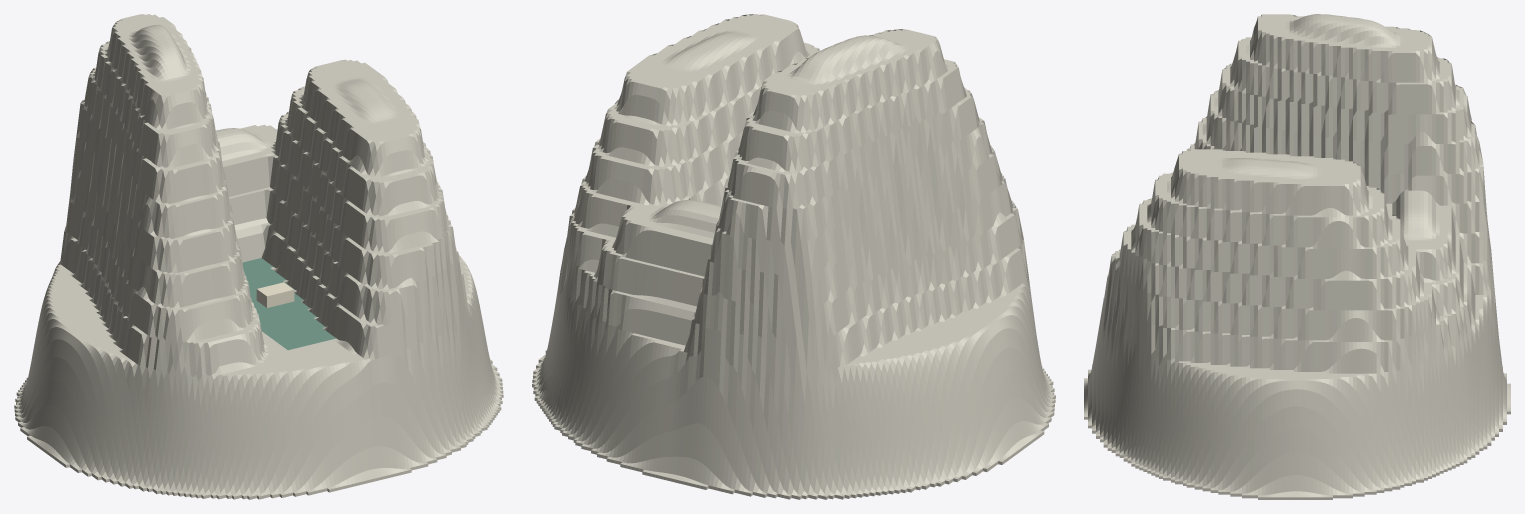
The model's file is study.glb.
3 renders of one model, left to right at view 1: azimuth 30°, elevation 25°; view 2: azimuth 150°, elevation 25°; view 3: azimuth 270°, elevation 25°, orthographic. The views are drawn at different scales.
Visible parts, largest first — view 1: N3 / one occupied climate watershed, Valley civic forum; view 2: N3 / one occupied climate watershed; view 3: N3 / one occupied climate watershed.
Part boxes in pixels (bbox=[...]): N3 / one occupied climate watershed: bbox=[14, 14, 503, 499]; Valley civic forum: bbox=[256, 282, 294, 307]; N3 / one occupied climate watershed: bbox=[532, 14, 1055, 499]; N3 / one occupied climate watershed: bbox=[1084, 14, 1510, 499].
Size of the model in its own units: 5320 by 4322 by 4821.
